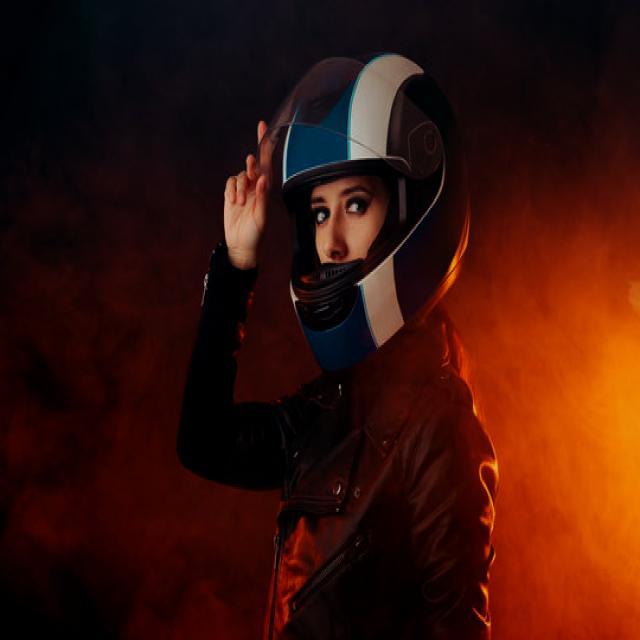helmet: (260, 53, 467, 366)
